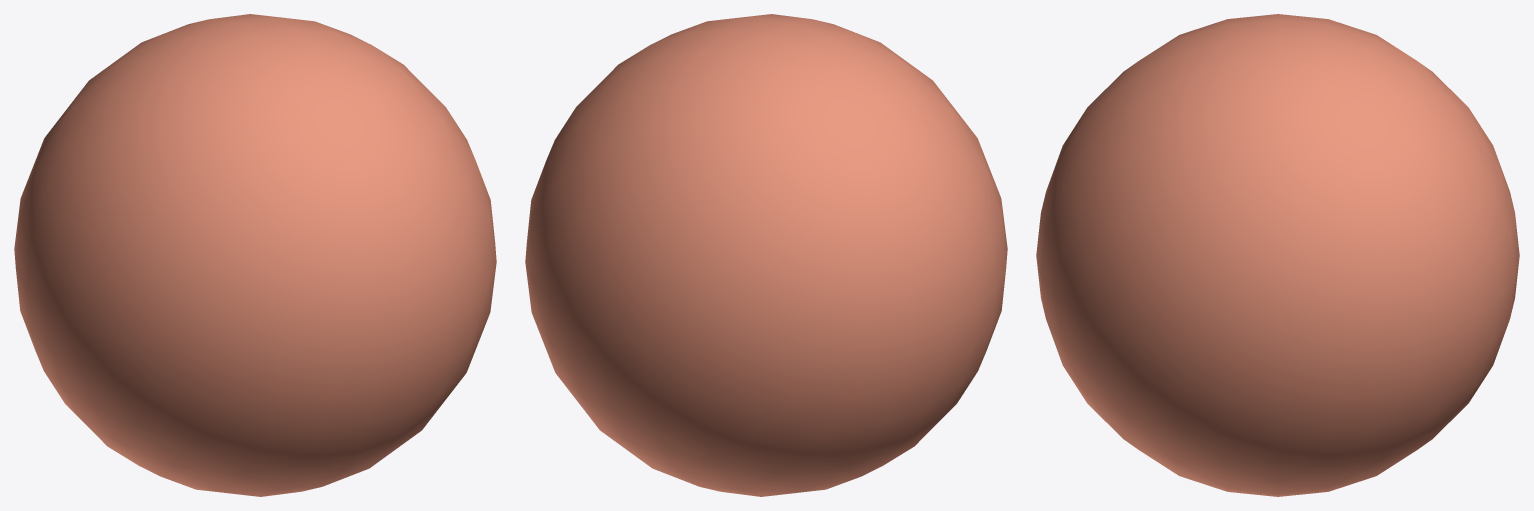
The model's file is LodSphere.gltf.
3 views of the same model, side by side, from view 1: azimuth 30°, elevation 25°; view 2: azimuth 150°, elevation 25°; view 3: azimuth 270°, elevation 25° (orthographic).
Visible parts, largest first — view 1: Sphere; view 2: Sphere; view 3: Sphere.
Boxes of the visible parts, x1=… form: Sphere: x1=14, y1=14, x2=496, y2=496; Sphere: x1=525, y1=14, x2=1007, y2=496; Sphere: x1=1036, y1=14, x2=1519, y2=496.
Size of the model in its own units: 2 by 2 by 2.
